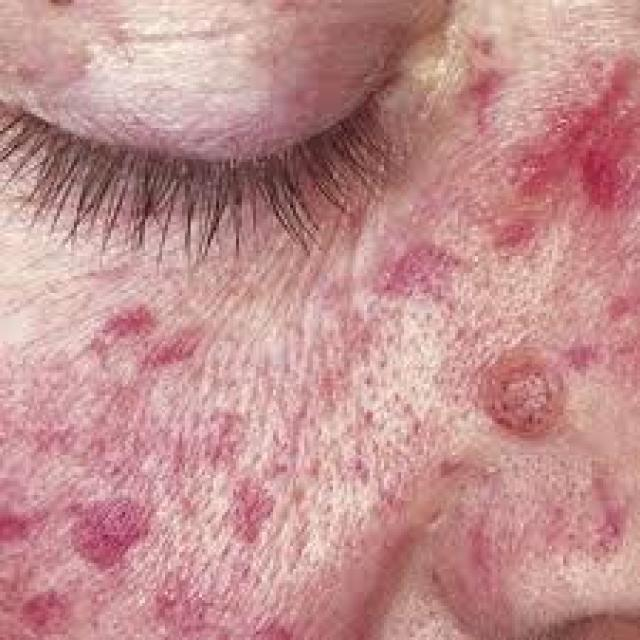Rosacea: (0, 234, 457, 639), (464, 35, 640, 369), (460, 473, 622, 614)
